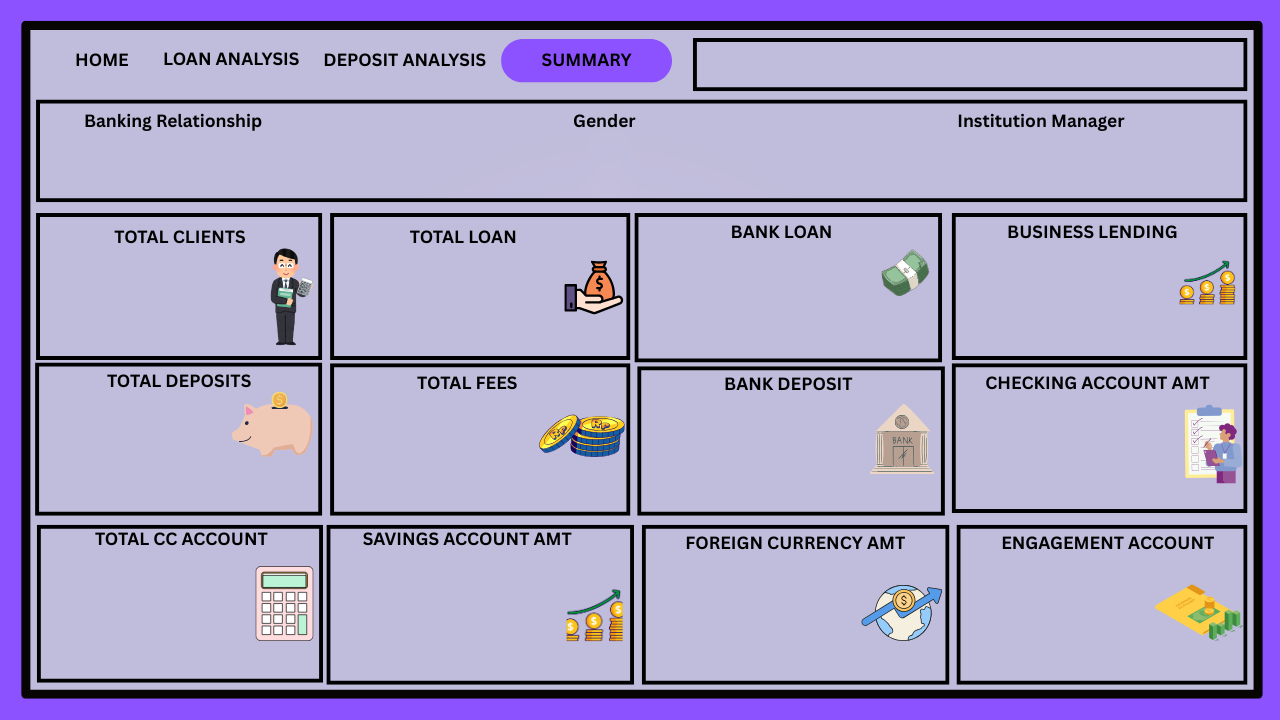

What the dashboard file says about the page in this screenshot:
{"tool":"powerbi","page":{"name":"SUMMARY","canvas":[1280,720],"ordinal":4},"visuals":[{"type":"actionButton","box":[51.6,37.9,100.2,39.9],"z":0},{"type":"actionButton","box":[158.5,37.9,147.8,39.9],"z":1000},{"type":"actionButton","box":[319,37.9,171.2,39.9],"z":2000},{"type":"advancedSlicerVisual","fields":{"Values":["Banking.Joining year"]},"box":[698,38.3,548.9,49.7],"z":3000},{"type":"advancedSlicerVisual","fields":{"Values":["Banking.BRId"]},"box":[51.8,135.7,467.1,49.7],"z":4000},{"type":"shape","box":[528.2,105.6,12.4,87],"z":5000},{"type":"advancedSlicerVisual","fields":{"Values":["Banking.GenderId"]},"box":[554,135.7,320,49.7],"z":6000},{"type":"shape","box":[881.3,105.6,13.5,87],"z":7000},{"type":"slicer","fields":{"Values":["Investment Advisor.Investment Advisor"]},"box":[911.3,135.7,327.2,49.7],"z":8000},{"type":"card","fields":{"Values":["CountNonNull(Banking.Name)"]},"box":[51.6,244.1,250,74.9],"z":9000},{"type":"card","fields":{"Values":["Sum(Banking.Bank Loans)"]},"box":[332.6,244.1,250.9,74.9],"z":10000},{"type":"card","fields":{"Values":["Banking.Total Loans"]},"box":[660.4,244.1,250.9,74.9],"z":11000},{"type":"card","fields":{"Values":["Sum(Banking.Business Lending)"]},"box":[949.3,244.1,250.9,74.9],"z":12000},{"type":"card","fields":{"Values":["Banking.Total Deposits"]},"box":[56.4,387.1,189.7,74.9],"z":13000},{"type":"card","fields":{"Values":["Banking.Total fees"]},"box":[246,396.1,372.1,75],"z":14000},{"type":"card","fields":{"Values":["Sum(Banking.Bank Deposits)"]},"box":[661.9,386.7,250.2,74],"z":15000},{"type":"card","fields":{"Values":["Sum(Banking.Checking Accounts)"]},"box":[949.6,396.1,250.2,74],"z":16000},{"type":"card","fields":{"Values":["Banking.Total CC amount"]},"box":[26.1,560.8,250.2,74],"z":17000},{"type":"card","fields":{"Values":["Sum(Banking.Saving Accounts)"]},"box":[333.6,560.8,250.2,74],"z":18000},{"type":"card","fields":{"Values":["Sum(Banking.Foreign Currency Account)"]},"box":[637.9,560.8,250.2,74],"z":19000},{"type":"card","fields":{"Values":["Sum(Banking.Engagement days)"]},"box":[959,560.8,209.5,74],"z":20000}]}

Visuals, with their boxes in screenshot pixels (x1, y1, x2, y2), scaled from the page's 1280x720 canvas onto the 1280x720 screenshot:
actionButton: region(52, 38, 152, 78)
actionButton: region(158, 38, 306, 78)
actionButton: region(319, 38, 490, 78)
advancedSlicerVisual - Banking.Joining year: region(698, 38, 1247, 88)
advancedSlicerVisual - Banking.BRId: region(52, 136, 519, 185)
shape: region(528, 106, 541, 193)
advancedSlicerVisual - Banking.GenderId: region(554, 136, 874, 185)
shape: region(881, 106, 895, 193)
slicer - Investment Advisor.Investment Advisor: region(911, 136, 1238, 185)
card - CountNonNull(Banking.Name): region(52, 244, 302, 319)
card - Sum(Banking.Bank Loans): region(333, 244, 584, 319)
card - Banking.Total Loans: region(660, 244, 911, 319)
card - Sum(Banking.Business Lending): region(949, 244, 1200, 319)
card - Banking.Total Deposits: region(56, 387, 246, 462)
card - Banking.Total fees: region(246, 396, 618, 471)
card - Sum(Banking.Bank Deposits): region(662, 387, 912, 461)
card - Sum(Banking.Checking Accounts): region(950, 396, 1200, 470)
card - Banking.Total CC amount: region(26, 561, 276, 635)
card - Sum(Banking.Saving Accounts): region(334, 561, 584, 635)
card - Sum(Banking.Foreign Currency Account): region(638, 561, 888, 635)
card - Sum(Banking.Engagement days): region(959, 561, 1168, 635)
